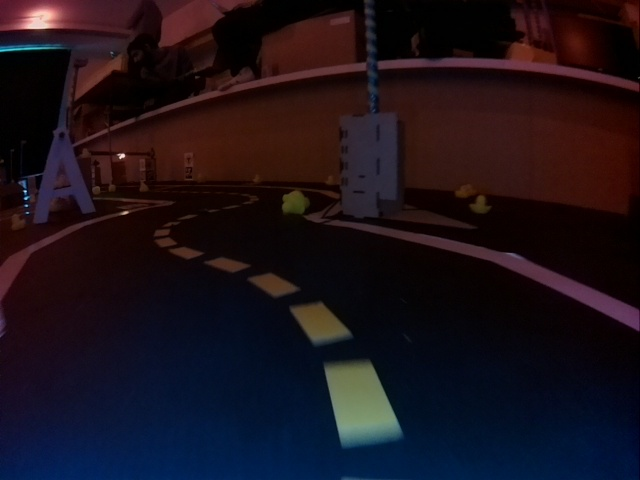Duckie: (281, 191, 308, 213), (469, 195, 491, 213)
